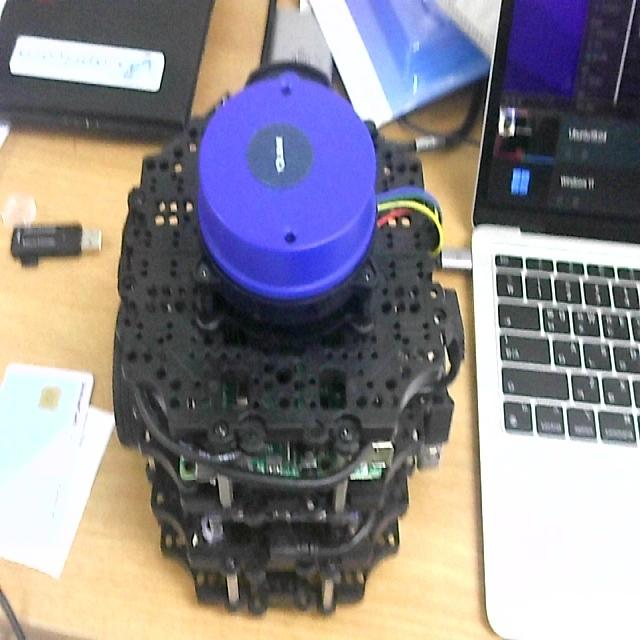turtle: (109, 62, 467, 624)
